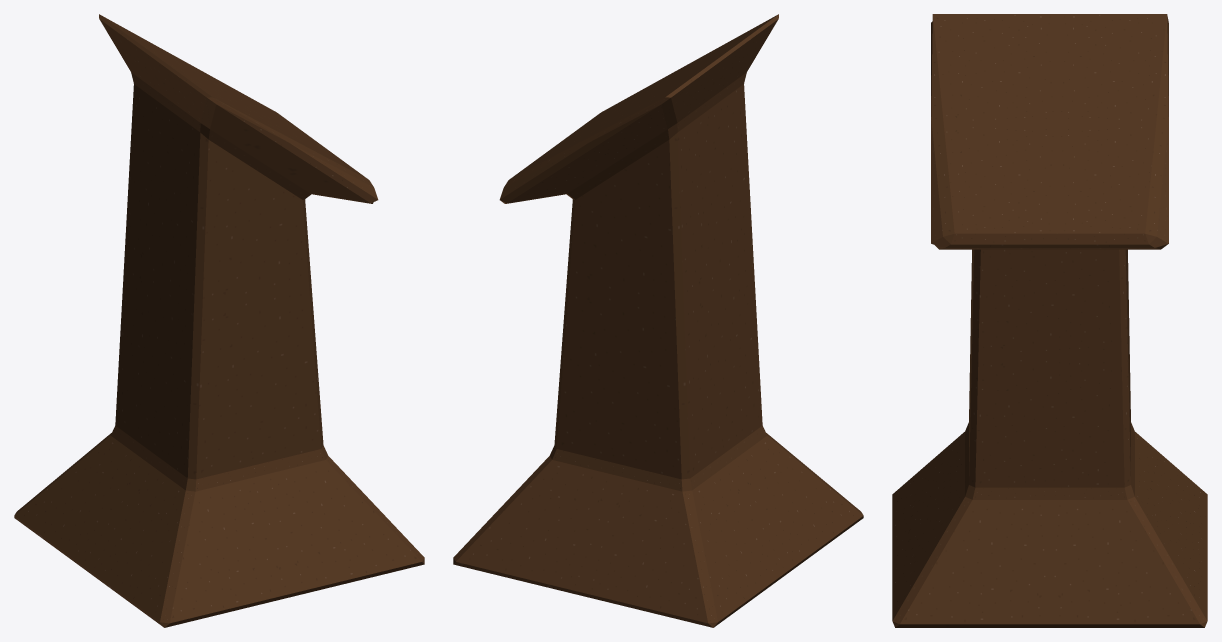
Rendered from pedestal.fbx.
The picture shows the model from 3 angles, left to right: view 1: azimuth 30°, elevation 25°; view 2: azimuth 150°, elevation 25°; view 3: azimuth 270°, elevation 25°; orthographic projection. The views are drawn at different scales.
Visible parts, largest first — view 1: Cube; view 2: Cube; view 3: Cube.
Boxes of the visible parts, x1=… form: Cube: x1=14, y1=14, x2=424, y2=627; Cube: x1=453, y1=14, x2=863, y2=627; Cube: x1=892, y1=14, x2=1207, y2=627.
Size of the model in its own units: 273 by 494 by 273.
